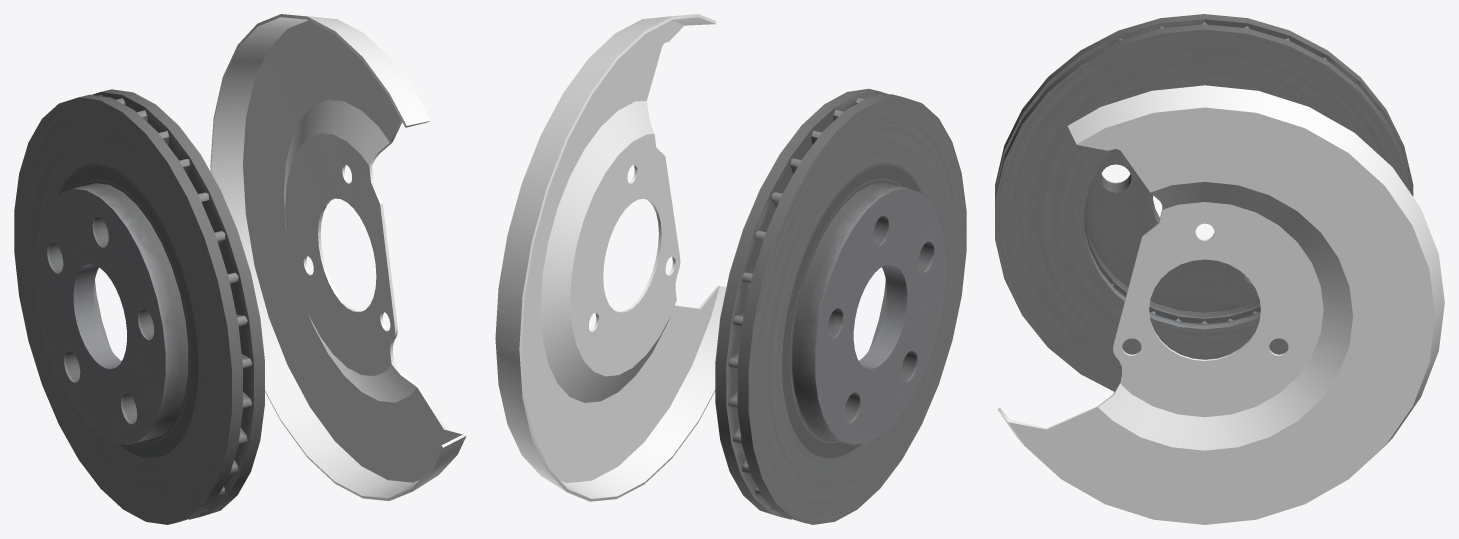
File: disk.glb
The picture shows the model from 3 angles, left to right: view 1: azimuth 30°, elevation 25°; view 2: azimuth 150°, elevation 25°; view 3: azimuth 270°, elevation 25°; orthographic projection. The views are drawn at different scales.
Parts seen in each view (by area): view 1: tarczaWentylowana_1(0), zwrotnicaPrzod_oslona_1(0); view 2: tarczaWentylowana_1(0), zwrotnicaPrzod_oslona_1(0); view 3: zwrotnicaPrzod_oslona_1(0), tarczaWentylowana_1(0).
Boxes of the visible parts, bbox=[...] form: tarczaWentylowana_1(0): bbox=[14, 89, 264, 524]; zwrotnicaPrzod_oslona_1(0): bbox=[210, 14, 466, 500]; tarczaWentylowana_1(0): bbox=[715, 88, 966, 524]; zwrotnicaPrzod_oslona_1(0): bbox=[495, 14, 726, 501]; zwrotnicaPrzod_oslona_1(0): bbox=[997, 85, 1444, 524]; tarczaWentylowana_1(0): bbox=[995, 14, 1413, 391].
Size of the model in its own units: 0.00544 by 0.00891 by 0.00835.
2 materials, 1 textured.
